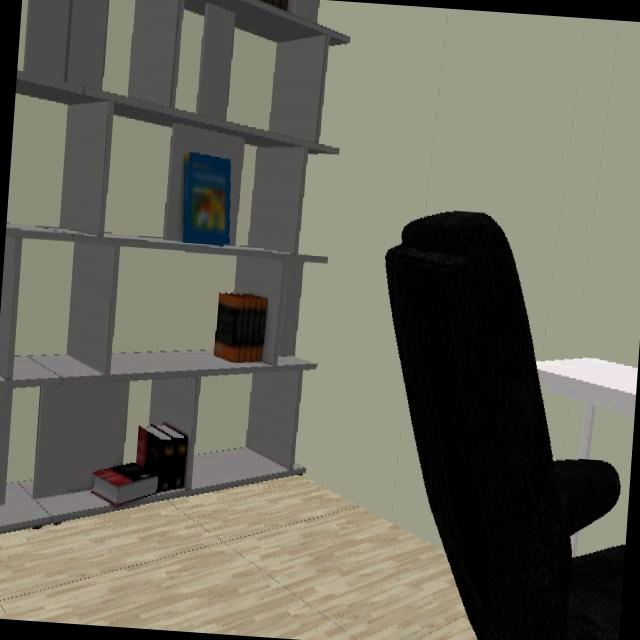book: (91, 421, 189, 505), (181, 150, 233, 248), (214, 292, 270, 365)
chair: (383, 211, 624, 640)
table: (537, 357, 637, 456)
